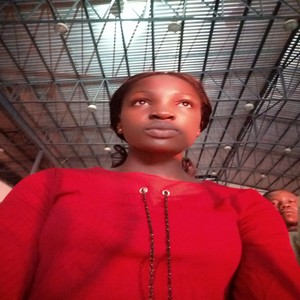Fulokoja_female_student: (108, 67, 217, 300)
